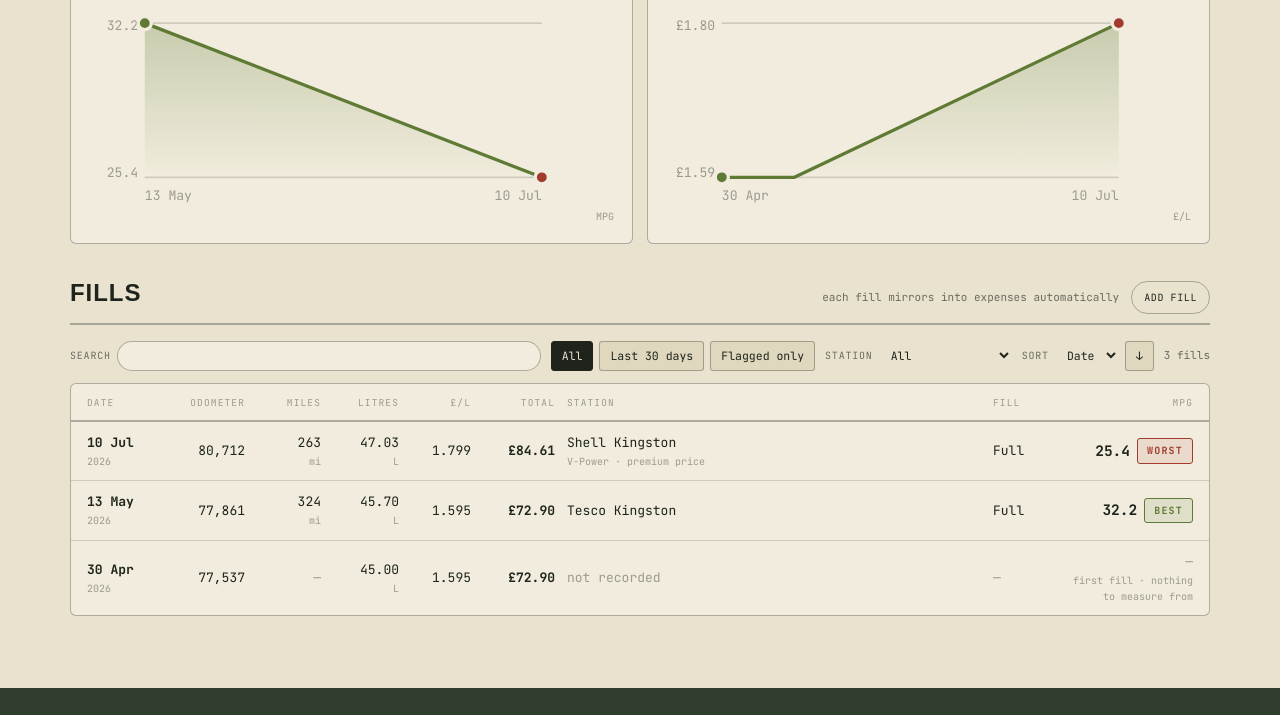
the fills table › filters to the flagged fills and counts them
(page scrolled)
Expected: the text "80,712" is shown, [198,442,245,459]
Click the button "Flagged only": (763, 356) [710,341,815,371]
(page scrolled)
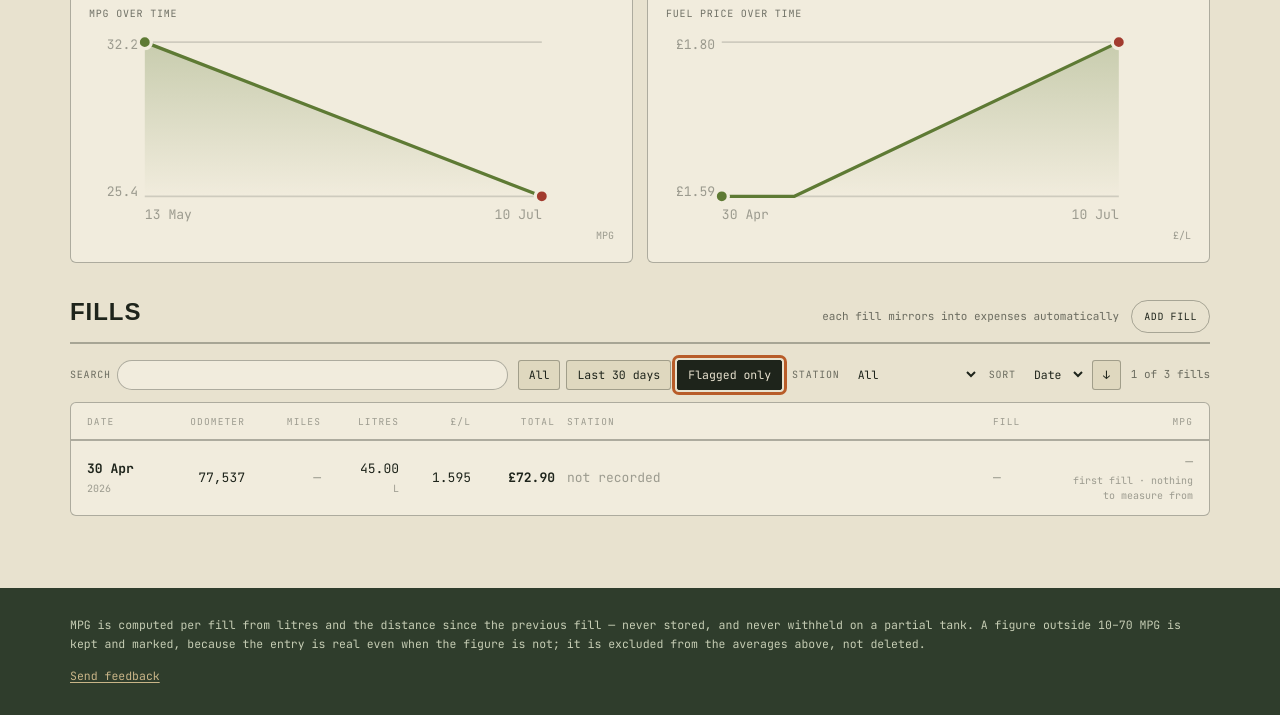
Expected: the row with class "dt-row" that starts with "30 Apr" is shown, [71,441,1209,515]
Expected: the text with class "tctl-count" shows "1 of 3", [1131,368,1170,382]
